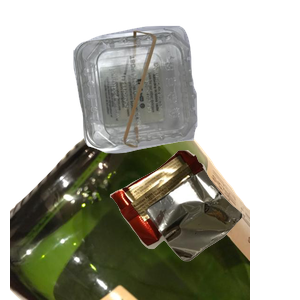glass: (10, 120, 250, 300)
metal: (77, 61, 222, 191)
plastic: (71, 23, 300, 169)
trash: (107, 148, 300, 300)
